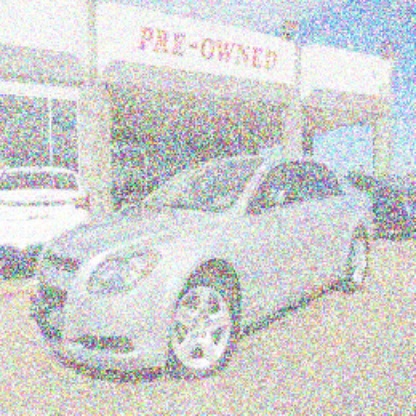Vehicle: (29, 154, 377, 383)
